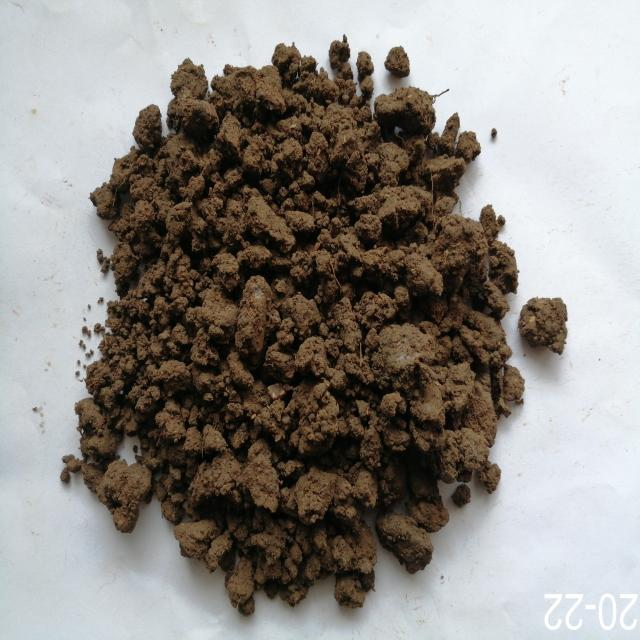soil: (152, 137, 417, 484)
